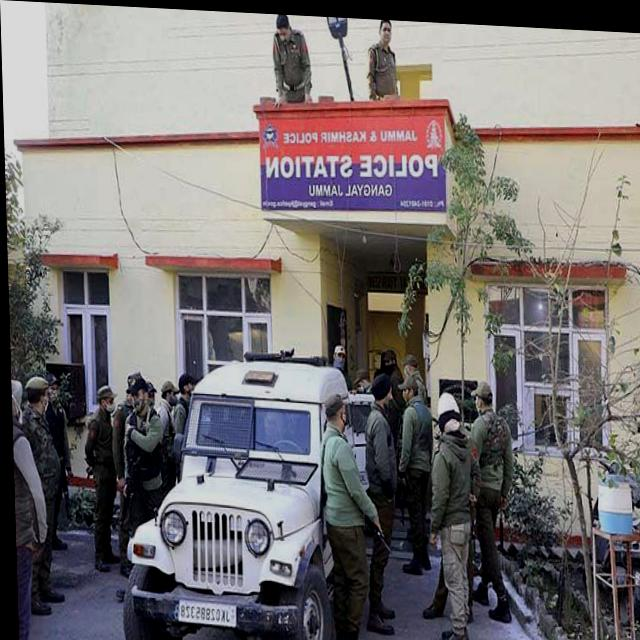0: (211, 607, 217, 619)
2: (181, 603, 186, 618), (206, 607, 212, 619)
3: (186, 604, 191, 617)
5: (191, 605, 197, 617)
8: (176, 603, 182, 616), (202, 605, 206, 618)
b: (197, 606, 202, 619)
j: (222, 607, 227, 621)
k: (217, 607, 223, 622)
